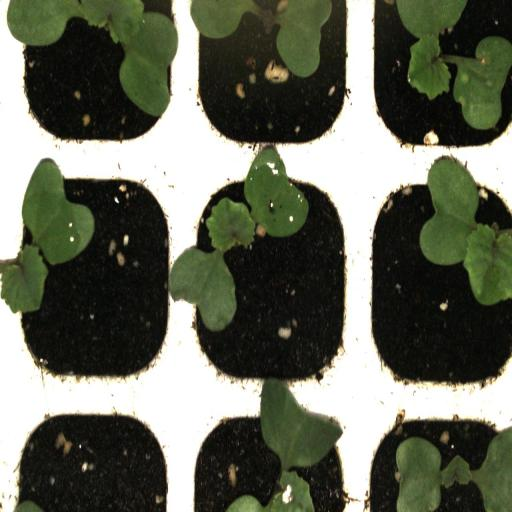Germinacao: (2, 152, 188, 398), (187, 158, 358, 398), (356, 158, 512, 400), (0, 0, 186, 152), (358, 0, 511, 166), (186, 399, 358, 512), (360, 399, 512, 512)
